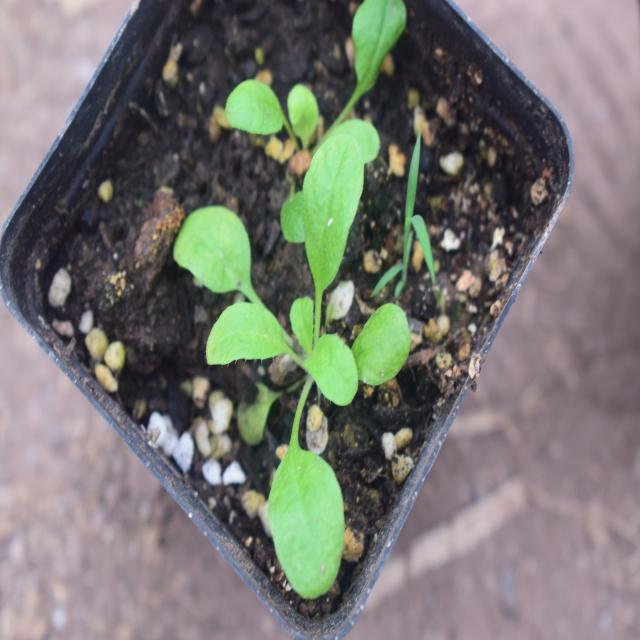Shepherd_Purse: (170, 128, 409, 595)
